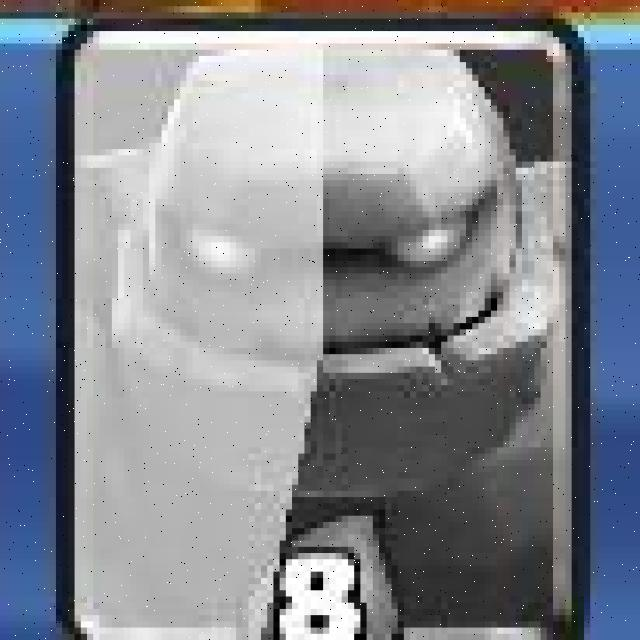Golem: (61, 21, 589, 640)
